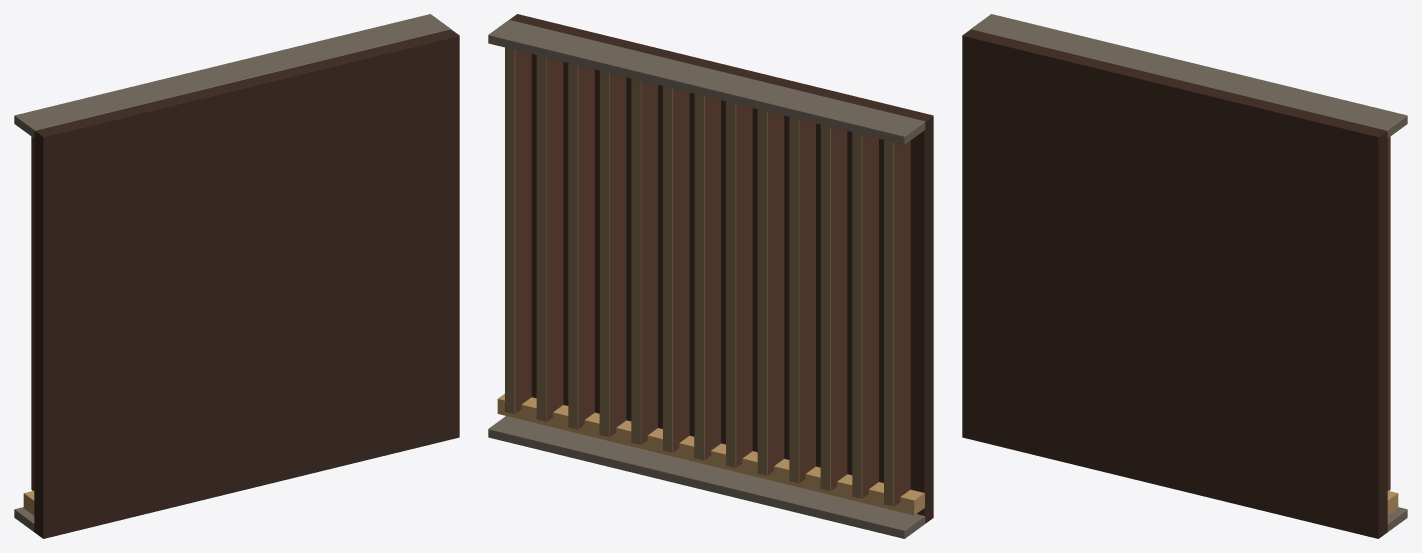
Rendered from fins.glb.
3 views of the same model, side by side, from view 1: azimuth 30°, elevation 25°; view 2: azimuth 150°, elevation 25°; view 3: azimuth 330°, elevation 25° (orthographic).
Parts seen in each view (by area): view 1: fins; view 2: fins; view 3: fins.
Part boxes in pixels (bbox=[...]): fins: bbox=[14, 14, 459, 538]; fins: bbox=[488, 14, 933, 538]; fins: bbox=[962, 14, 1407, 538].
Size of the model in its own units: 1.69 by 1.56 by 0.2055.
